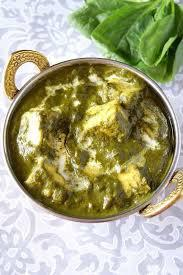palak paneer: (9, 63, 173, 220)
